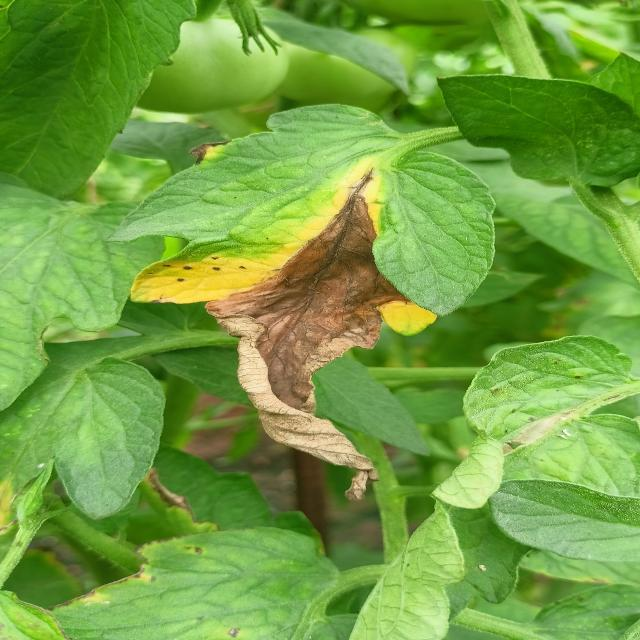Tomato mosaic virus leaf: (98, 100, 510, 512)
